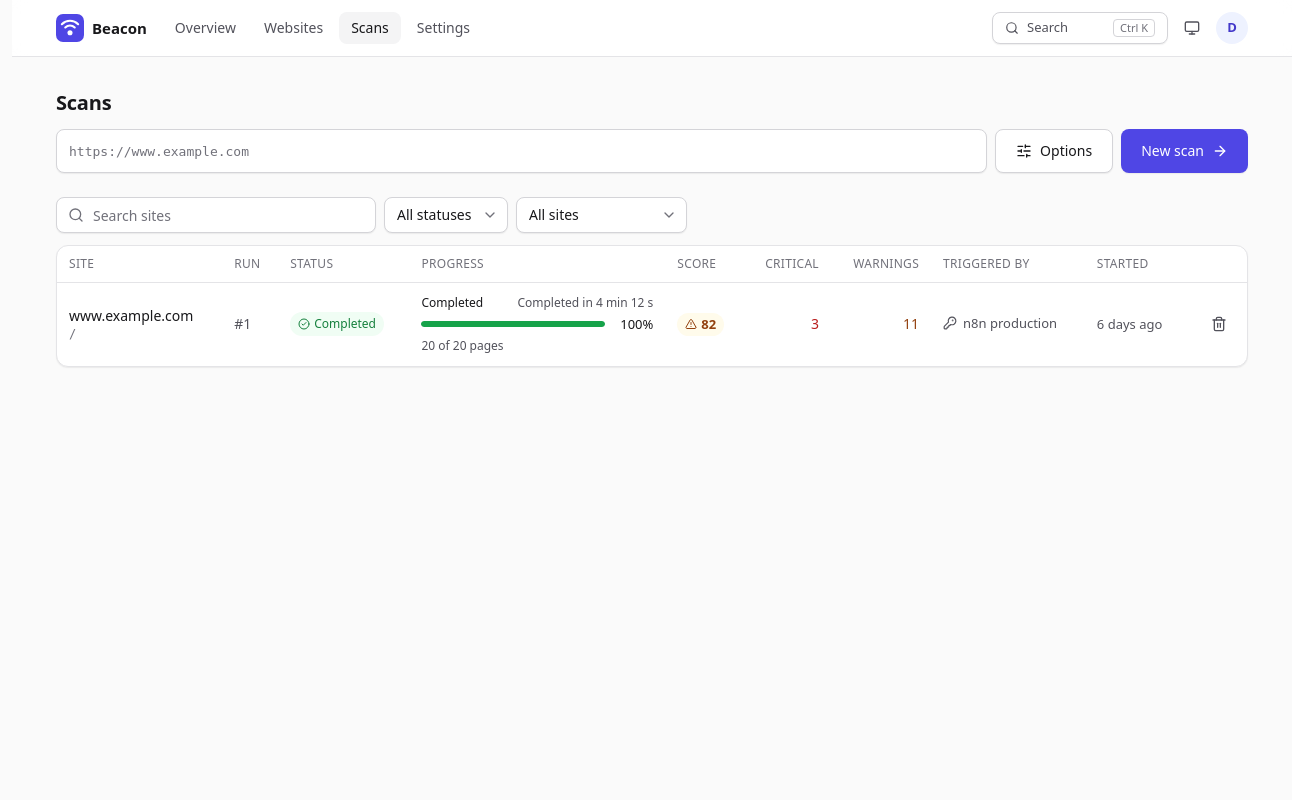
dashboard scan list › opens a scan from its row
The width and height of the screenshot is (1292, 800).
Click the text "n8n production" at (1010, 323), box [963, 314, 1057, 332]
(page scrolled)
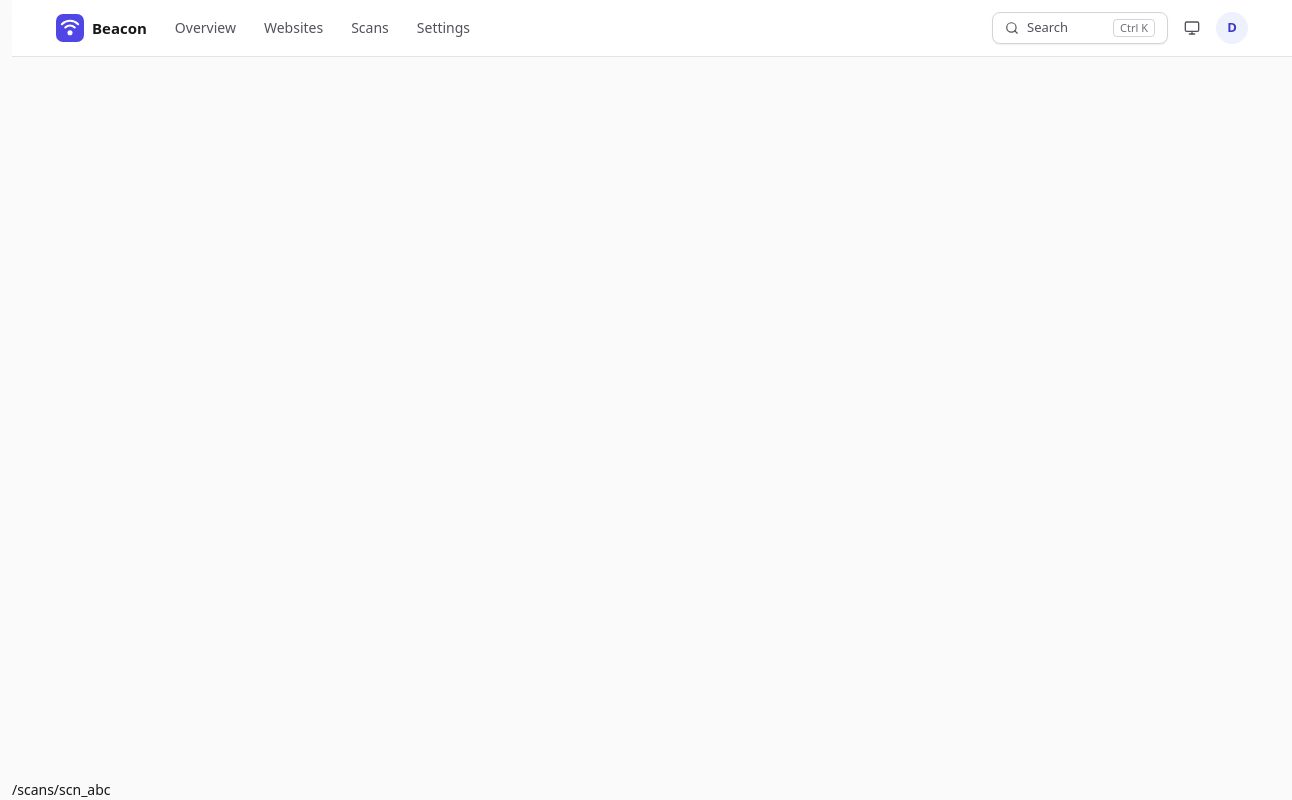
expect the text with test id "location" reads "/scans/scn_abc": met, box [12, 780, 110, 799]
